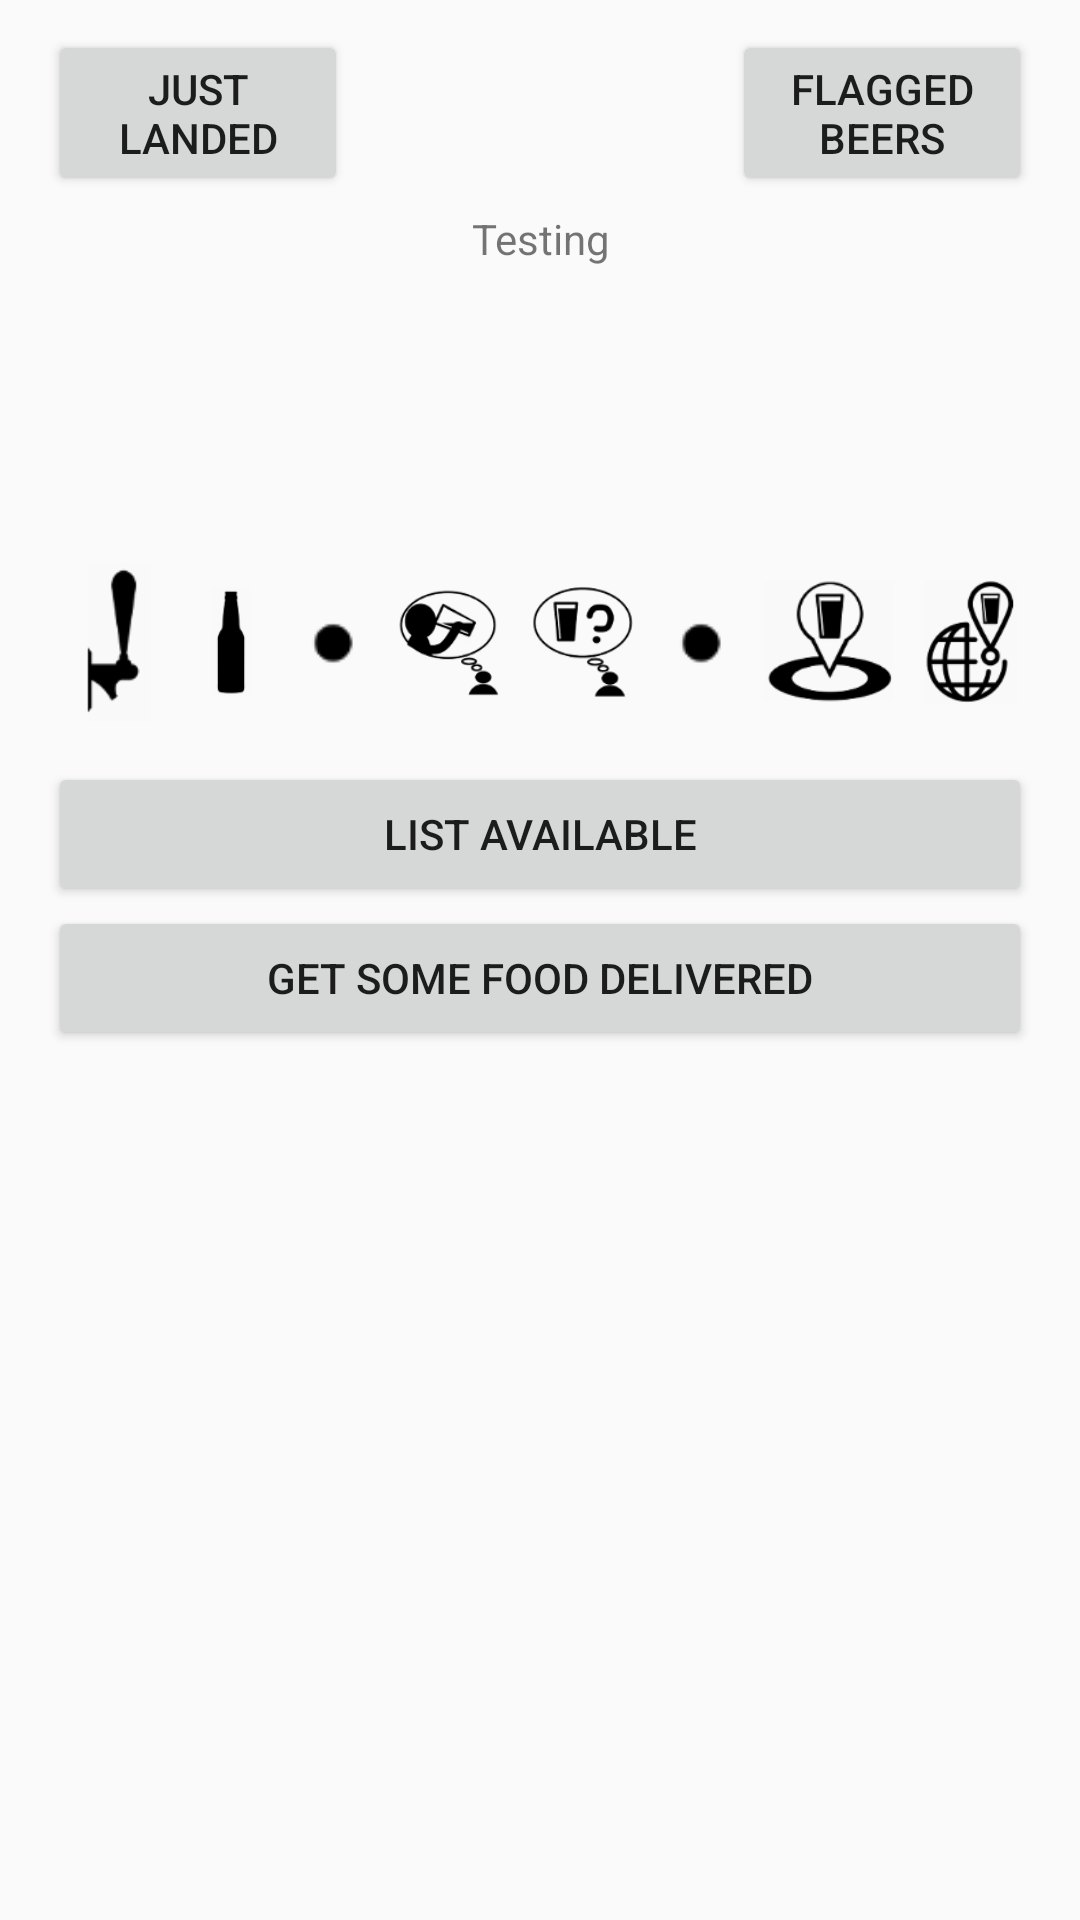

Screen size 1080*1920. Icon name, then its center in pixels as (x,y):
beers not tasted: (583,642)
beers tasted: (448,642)
bottled beer: (231,642)
draught beer: (113,641)
local beers: (830,641)
non-local beers: (970,641)
